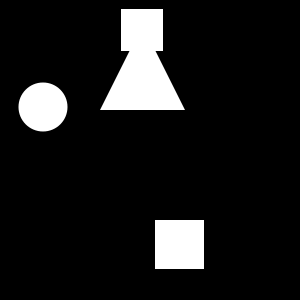circle: (155, 220, 204, 269), (121, 9, 163, 51)
rectangle: (19, 82, 68, 132)
triangle: (100, 25, 185, 110)
